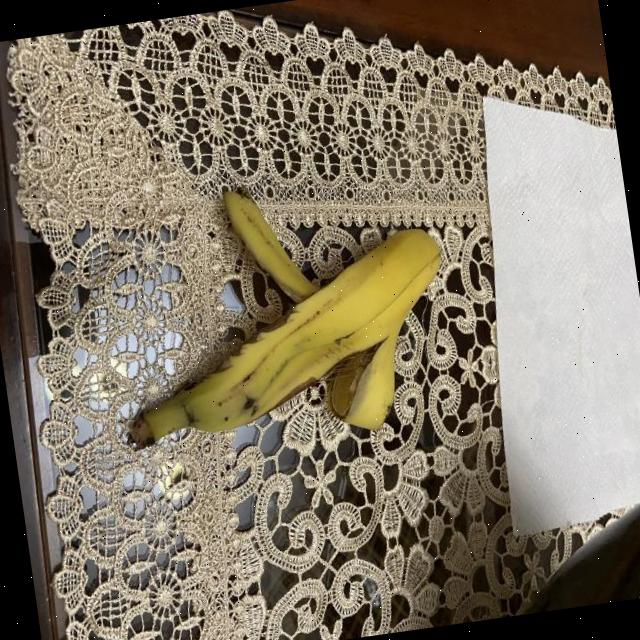banana-peel: (97, 160, 465, 464)
